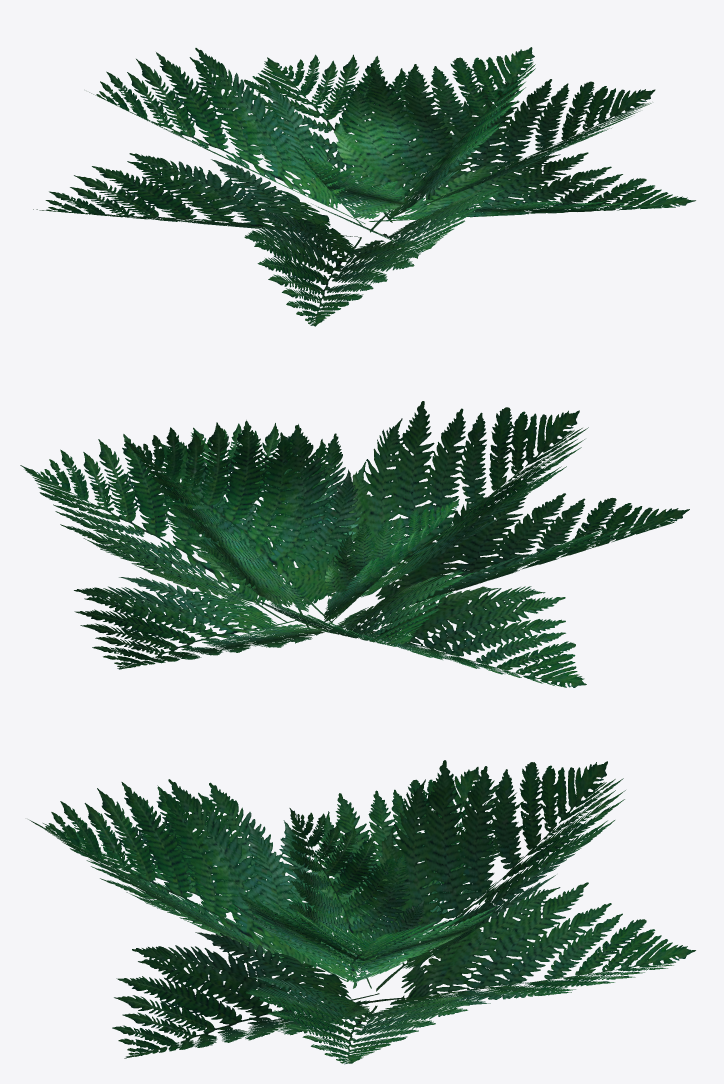
Rendered from fern_medfern_blue_l0.fbx.
The picture shows the model from 3 angles, top to bottom: view 1: azimuth 30°, elevation 25°; view 2: azimuth 150°, elevation 25°; view 3: azimuth 270°, elevation 25°; orthographic projection. The views are drawn at different scales.
Visible parts, largest first — view 1: mesh_node; view 2: mesh_node; view 3: mesh_node.
Part boxes in pixels (box(x1,y1,x2,y2)): mesh_node: box(33, 47, 695, 326); mesh_node: box(20, 401, 689, 687); mesh_node: box(28, 760, 695, 1064).
Bounding box in the file's own units: 5.38 × 1.2 × 4.75.
